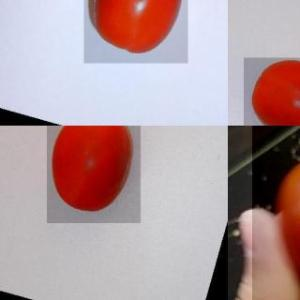tomato: (48, 126, 140, 222), (252, 126, 300, 300), (84, 1, 188, 64), (244, 58, 300, 126)
